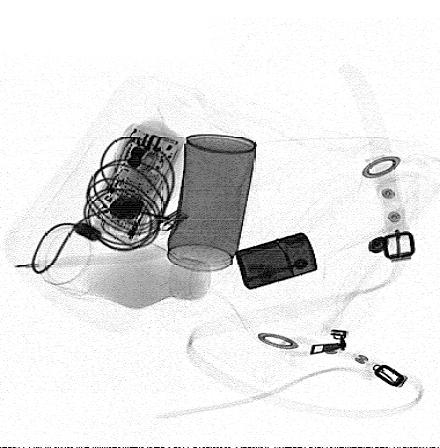Lighter: (235, 232, 319, 290)
